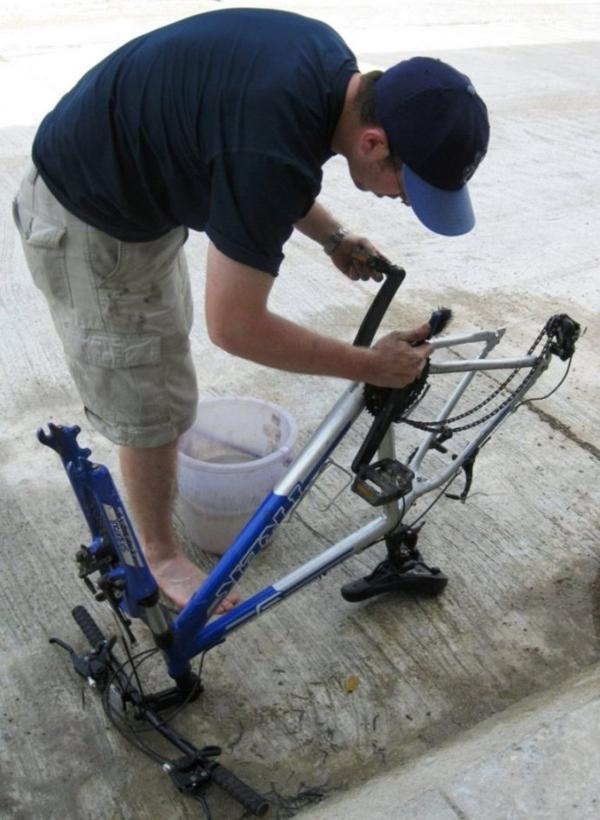person: (14, 9, 491, 623)
